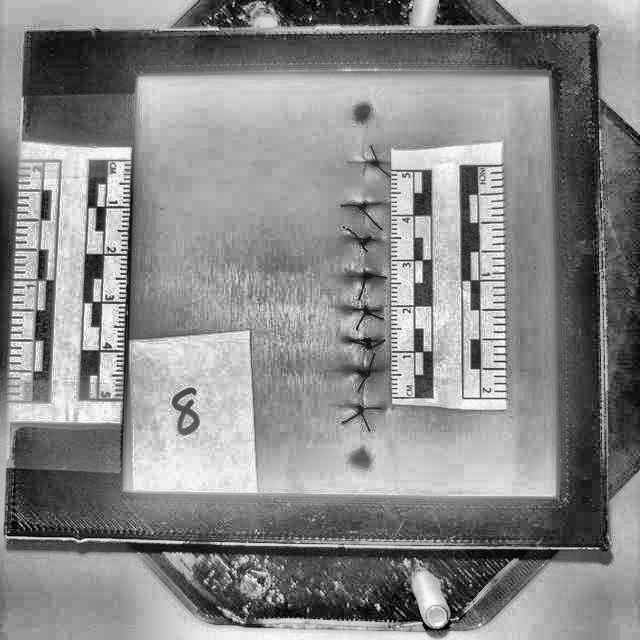incision_line: (360, 112, 368, 462)
scale_marker: (388, 218, 413, 257)
suture_d: (349, 165, 378, 207), (353, 202, 375, 238), (357, 274, 375, 312), (357, 240, 374, 275), (357, 373, 373, 407), (357, 309, 373, 341), (359, 341, 376, 371)
suture_l: (340, 201, 364, 210), (345, 272, 364, 280), (345, 159, 365, 166), (350, 307, 364, 313), (348, 338, 364, 343), (352, 406, 364, 411), (352, 368, 363, 373), (352, 237, 364, 241)
suture_r: (364, 272, 388, 280), (365, 201, 386, 210), (365, 158, 383, 166), (364, 236, 382, 242), (365, 307, 383, 313), (364, 367, 382, 373), (364, 406, 385, 411), (364, 338, 380, 343)
